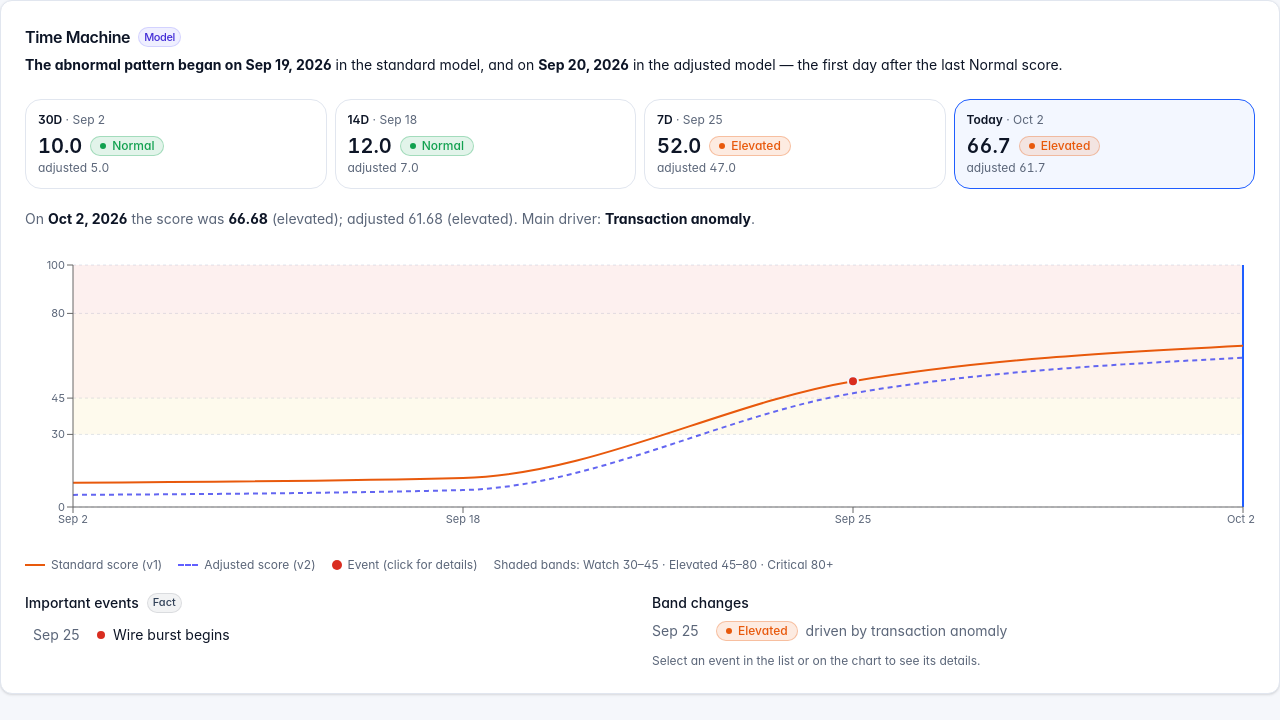
Test: time machine › defaults to Today and switches snapshots without refetching
Expected: the element with test id "selected-day" shows "Oct 2, 2026", top-left (48, 210), bottom-right (127, 227)
Click the tab "30D · Sep 2 10.0 Normal adjusted 5.0": [89, 120] box top-left (25, 99), bottom-right (326, 189)
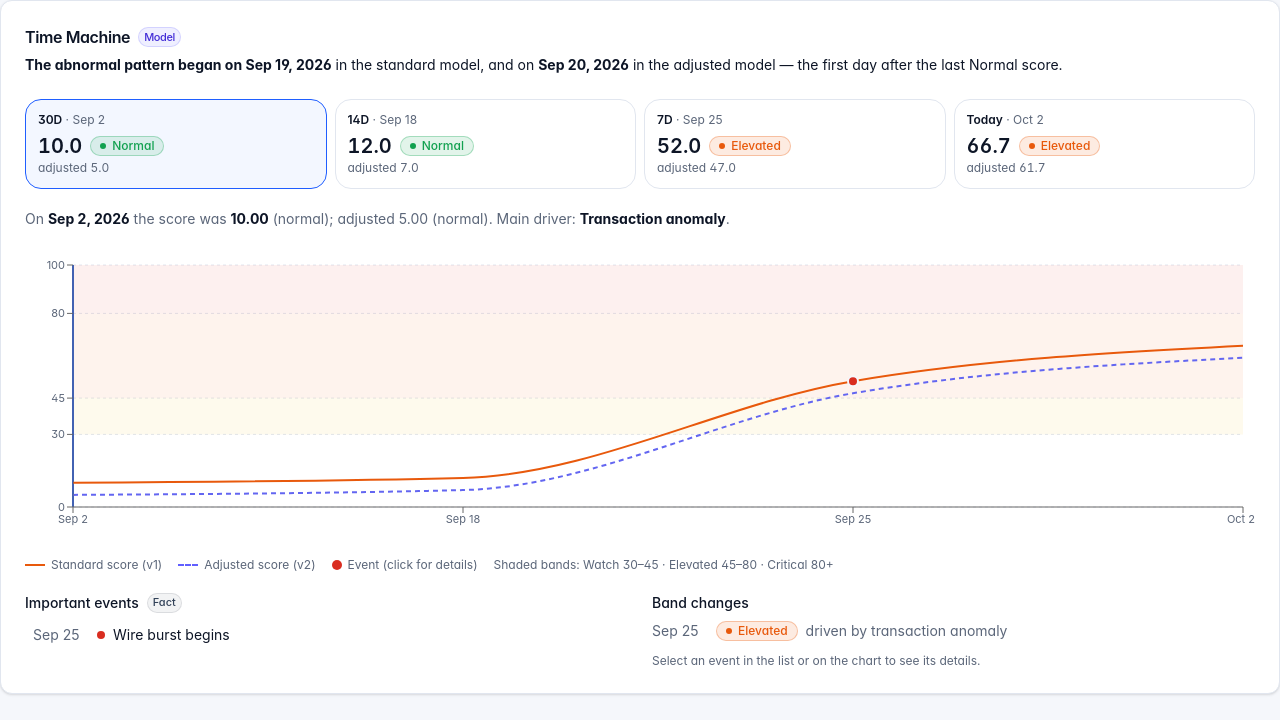
Result: the element with test id "selected-day" shows "Sep 2, 2026" at top-left (48, 210), bottom-right (130, 227)
Click the tab "14D · Sep 18 12.0 Normal adjusted 7.0": [398, 120] box top-left (334, 99), bottom-right (636, 189)
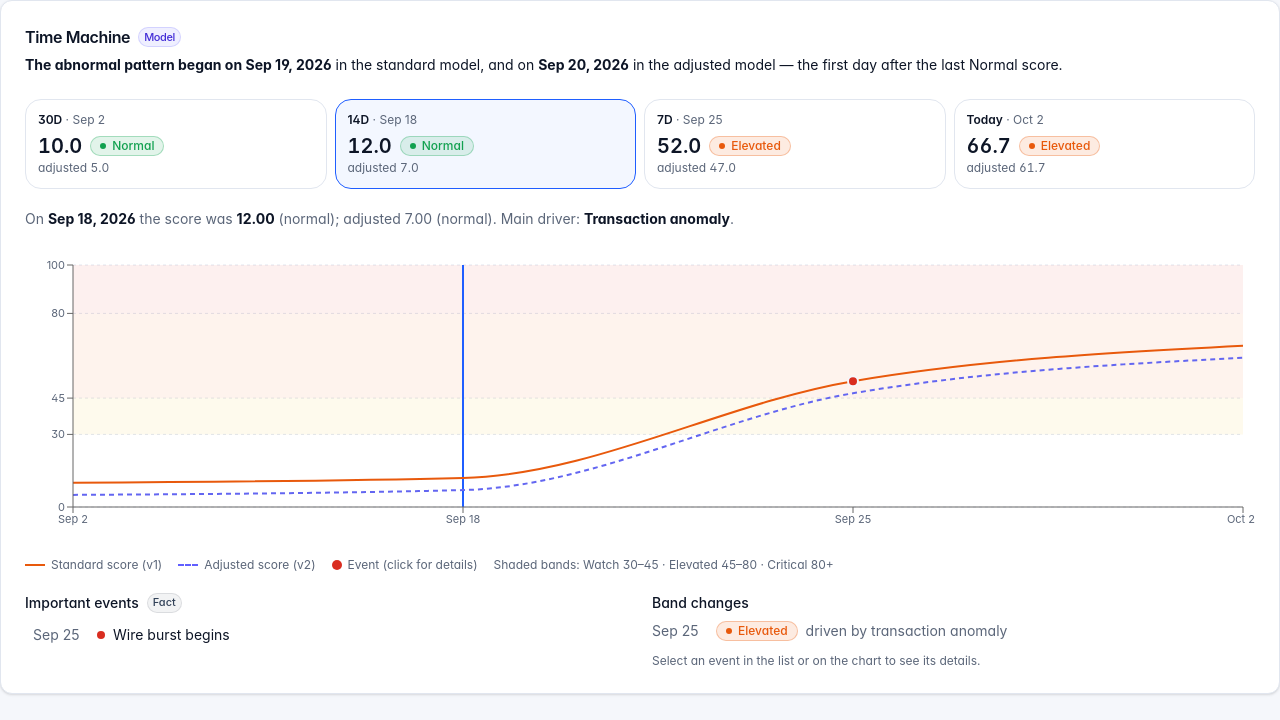
Result: the element with test id "selected-day" shows "Sep 18, 2026" at top-left (48, 210), bottom-right (136, 227)
Click the tab "7D · Sep 25 52.0 Elevated adjusted 47.0": [703, 120] box top-left (644, 99), bottom-right (946, 189)
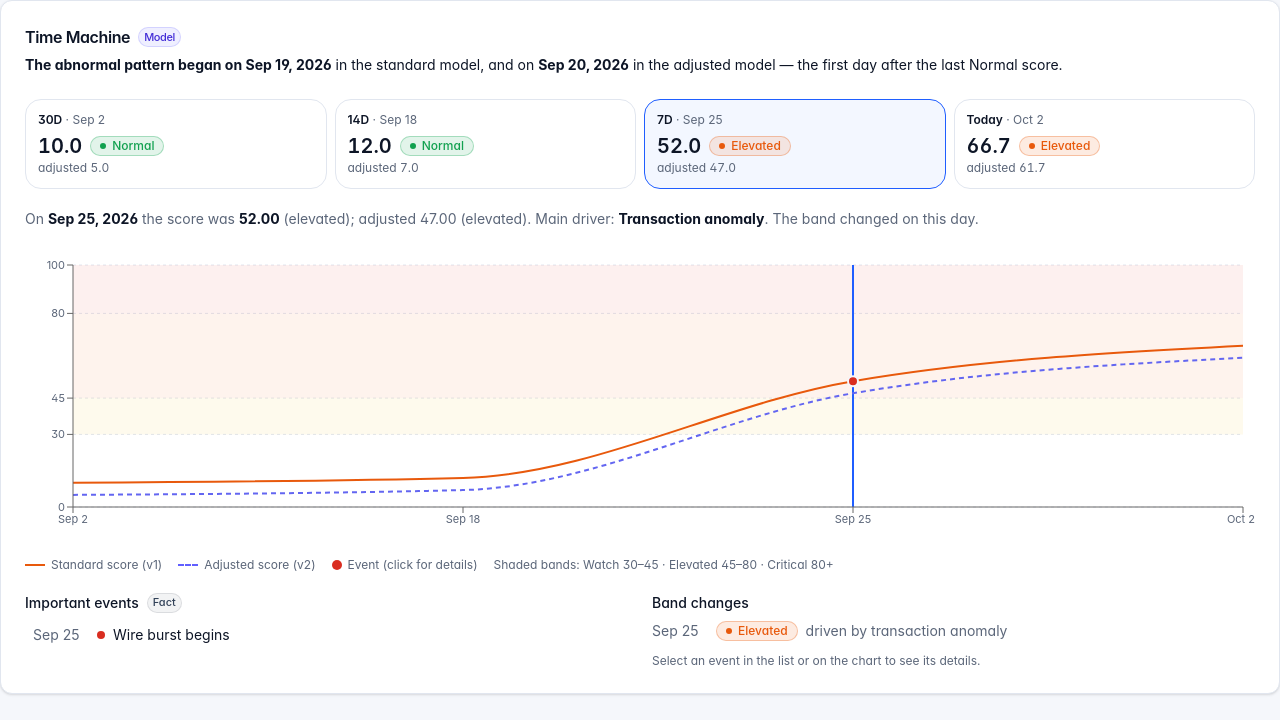
Result: the element with test id "selected-day" shows "Sep 25, 2026" at top-left (48, 210), bottom-right (138, 227)
Click the tab "Today · Oct 2 66.7 Elevated adjusted 61.7": [985, 120] box top-left (954, 99), bottom-right (1255, 189)
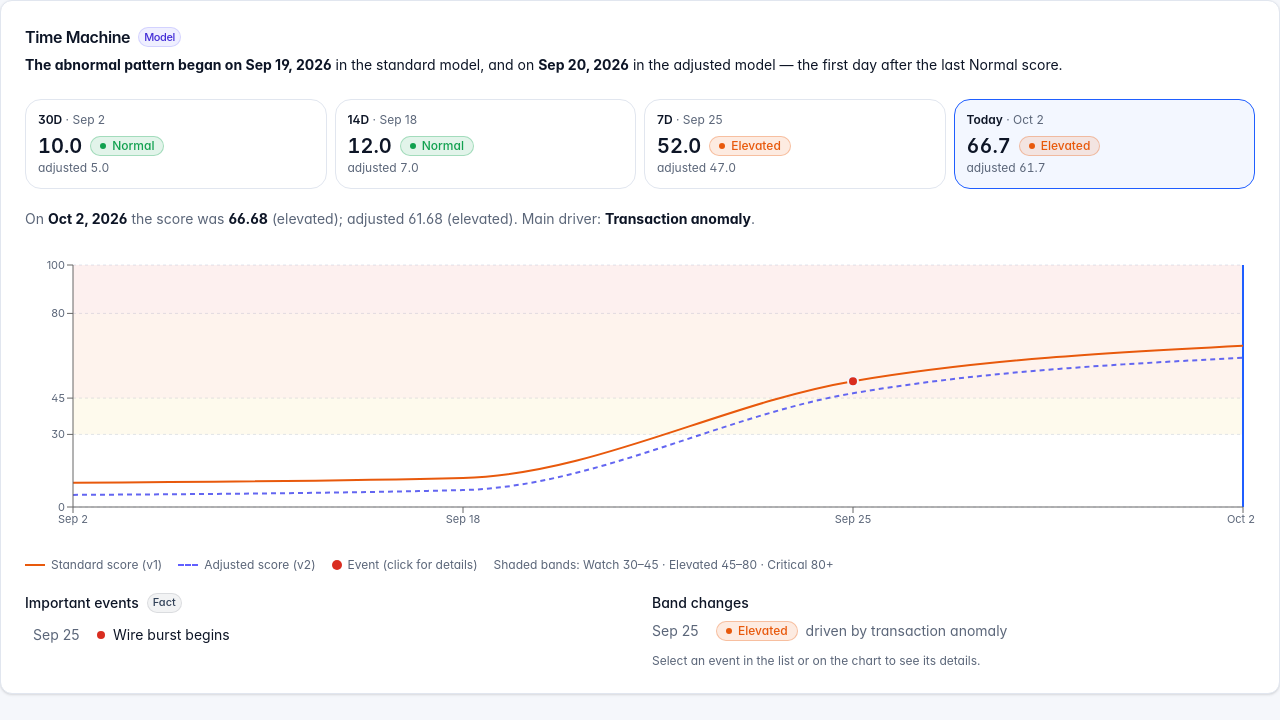
Result: the element with test id "selected-day" shows "Oct 2, 2026" at top-left (48, 210), bottom-right (127, 227)
